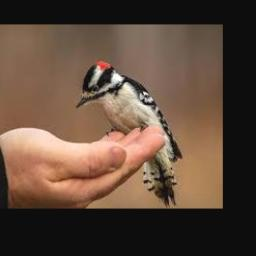Woodpecker: (76, 60, 182, 208)
